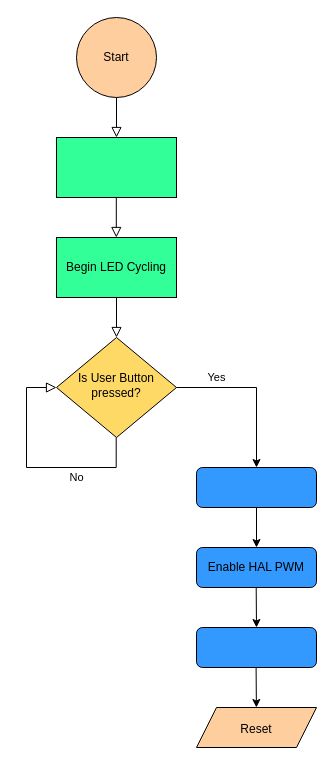
Some shapes in this 334 by 765 pixel diagram are drawn without their labels. Each missing label, with the box of its shape:
Count Number of ON LED'S: (196, 466, 316, 508)
Enable clocks GPIO: (56, 136, 176, 198)
Tossing Routine: (196, 626, 316, 668)
